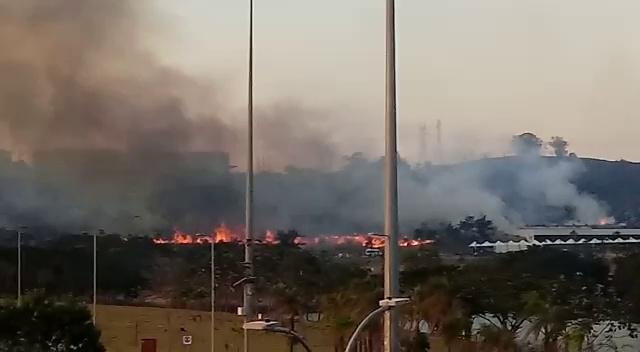fire: (172, 225, 234, 247)
smoke: (18, 42, 169, 174), (397, 173, 532, 211), (264, 173, 375, 215)
